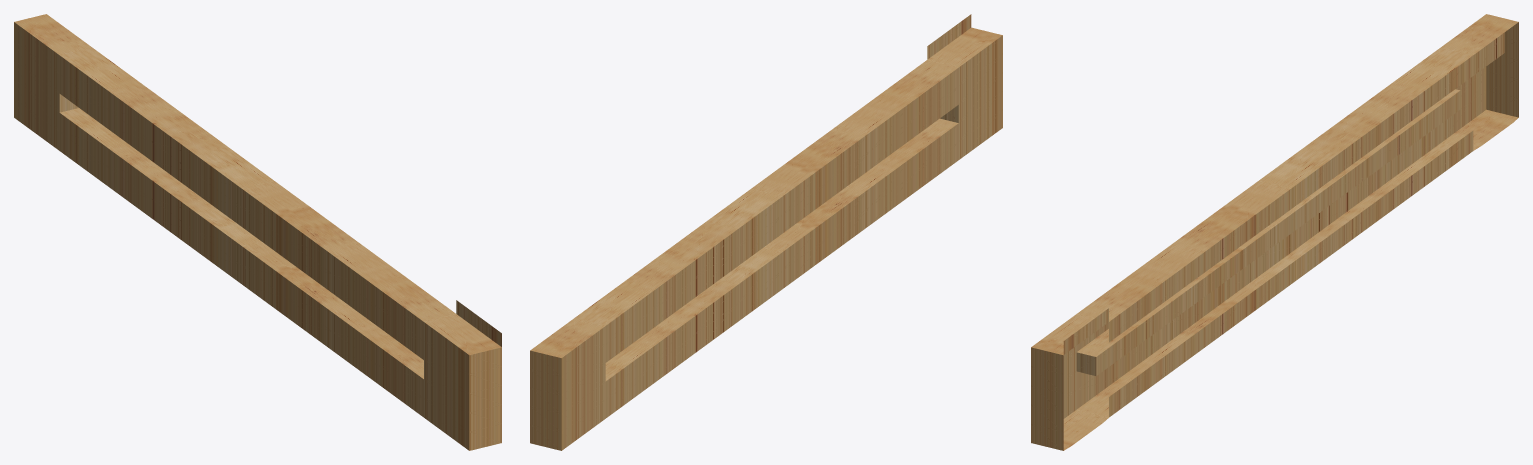
Rendered from plank_rechts.obj.
The picture shows the model from 3 angles, left to right: view 1: azimuth 30°, elevation 25°; view 2: azimuth 150°, elevation 25°; view 3: azimuth 330°, elevation 25°; orthographic projection. The views are drawn at different scales.
Visible parts, largest first — view 1: Frame_plank_rechts; view 2: Frame_plank_rechts; view 3: Frame_plank_rechts.
Boxes of the visible parts, x1,y1,x2,y2 form: Frame_plank_rechts: [14, 14, 501, 450]; Frame_plank_rechts: [530, 14, 1002, 450]; Frame_plank_rechts: [1031, 14, 1518, 450].
Size of the model in its own units: 0.3346 by 1.05 by 7.87.
1 material, 1 textured.
